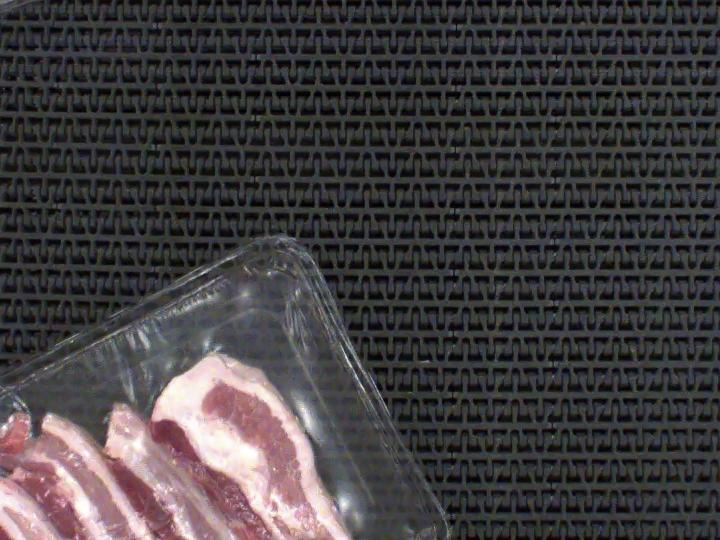unsealed: (0, 268, 415, 540)
